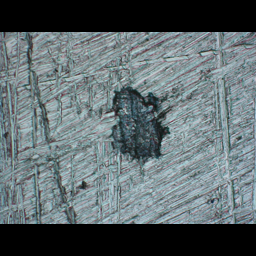d: (106, 82, 172, 171)
